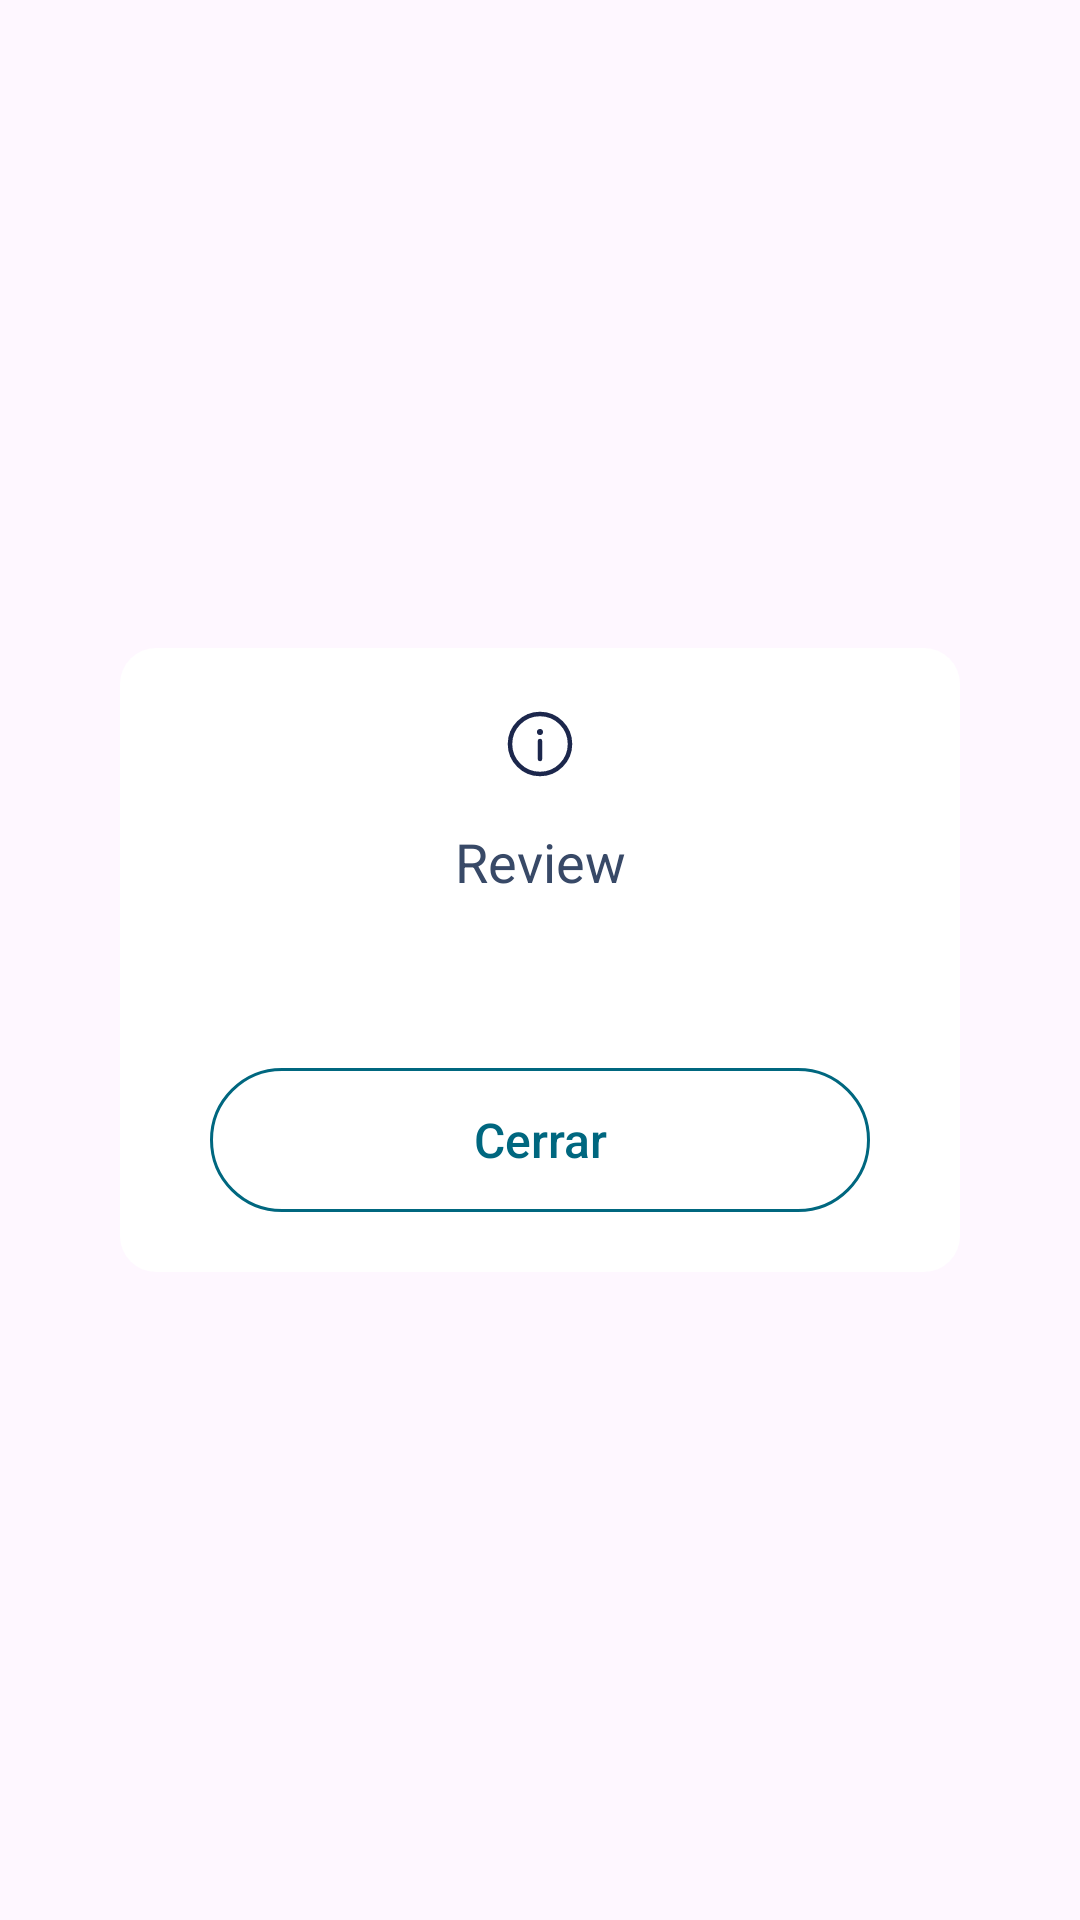

Icons on this 1080 x 1920 Android screen, each with the point to tap as point (x, y):
info: point (540, 744)
